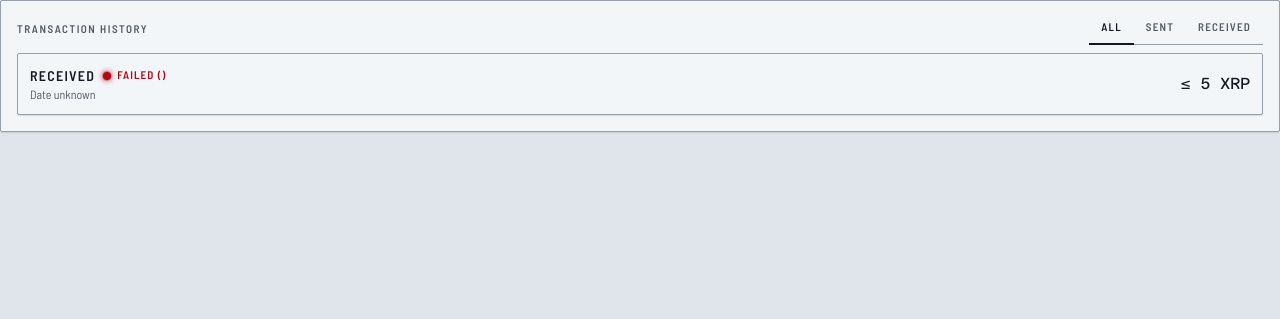
Test: HistoryTab — an amount not known to be delivered is an upper bound › does not word an unknown-outcome row (empty resultCode) as failed
The image size is (1280, 319).
Click the button at point(63, 75), box [30,66,1250,102]
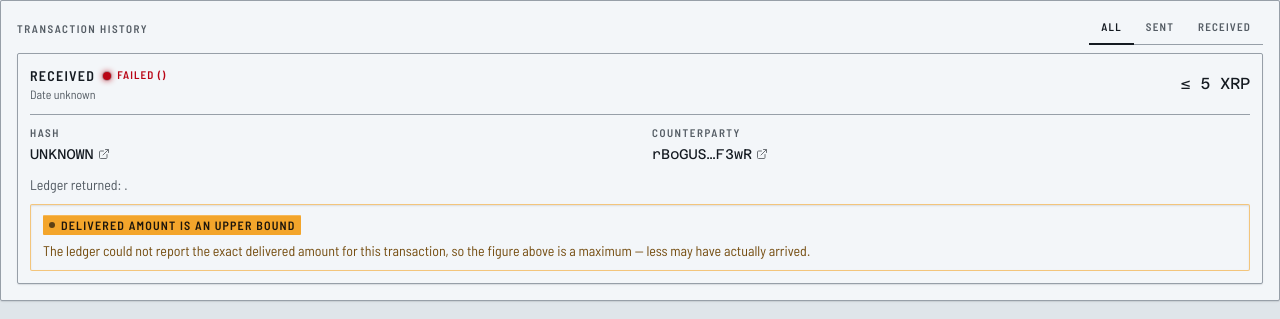
expect the text "Delivered amount is an upper bound" is shown: met, box [43,215,301,235]
